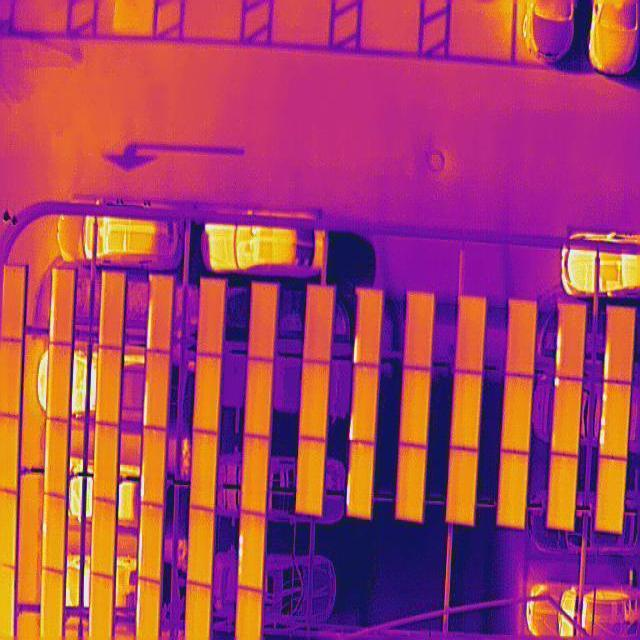Cell: (552, 380, 580, 455)
No-Anomaly: (400, 368, 430, 448), (595, 458, 625, 534), (305, 286, 334, 364), (350, 365, 379, 443), (300, 363, 330, 438), (296, 438, 324, 518), (404, 292, 433, 368), (355, 290, 384, 365), (453, 372, 480, 452), (456, 298, 485, 372), (397, 446, 425, 522), (549, 455, 577, 530), (500, 452, 527, 528), (504, 377, 531, 452), (508, 300, 534, 376), (249, 285, 275, 360), (97, 347, 122, 425), (246, 360, 271, 438), (449, 450, 476, 522), (199, 280, 225, 354), (2, 264, 27, 340), (101, 272, 126, 348), (47, 342, 72, 418), (195, 354, 220, 430), (45, 420, 70, 496), (95, 425, 120, 501), (347, 442, 372, 518), (244, 436, 268, 515), (92, 500, 116, 575), (192, 432, 215, 510), (190, 509, 212, 589), (0, 342, 22, 416), (0, 415, 20, 493)
Unclassified: (601, 382, 629, 458), (558, 304, 585, 378), (605, 308, 632, 382), (145, 351, 170, 429), (50, 268, 75, 344), (43, 495, 67, 573), (142, 428, 165, 508), (148, 276, 172, 352), (239, 512, 263, 588), (139, 505, 162, 580)
